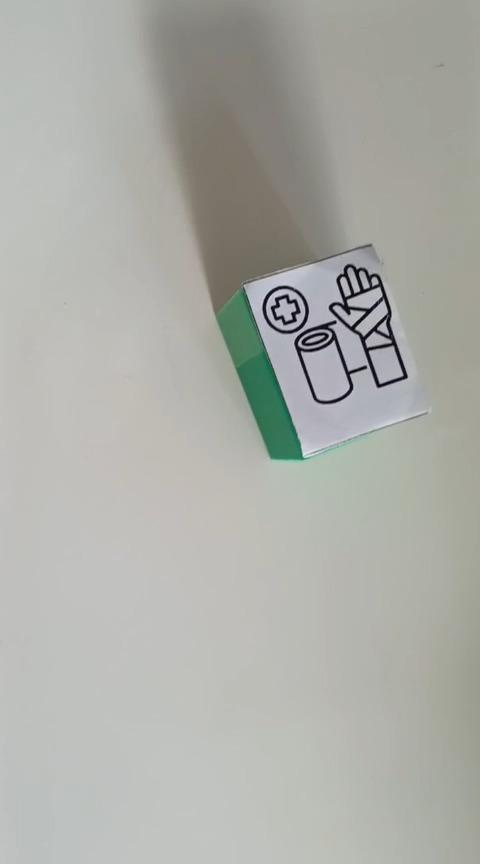Bandages: (214, 241, 430, 460)
